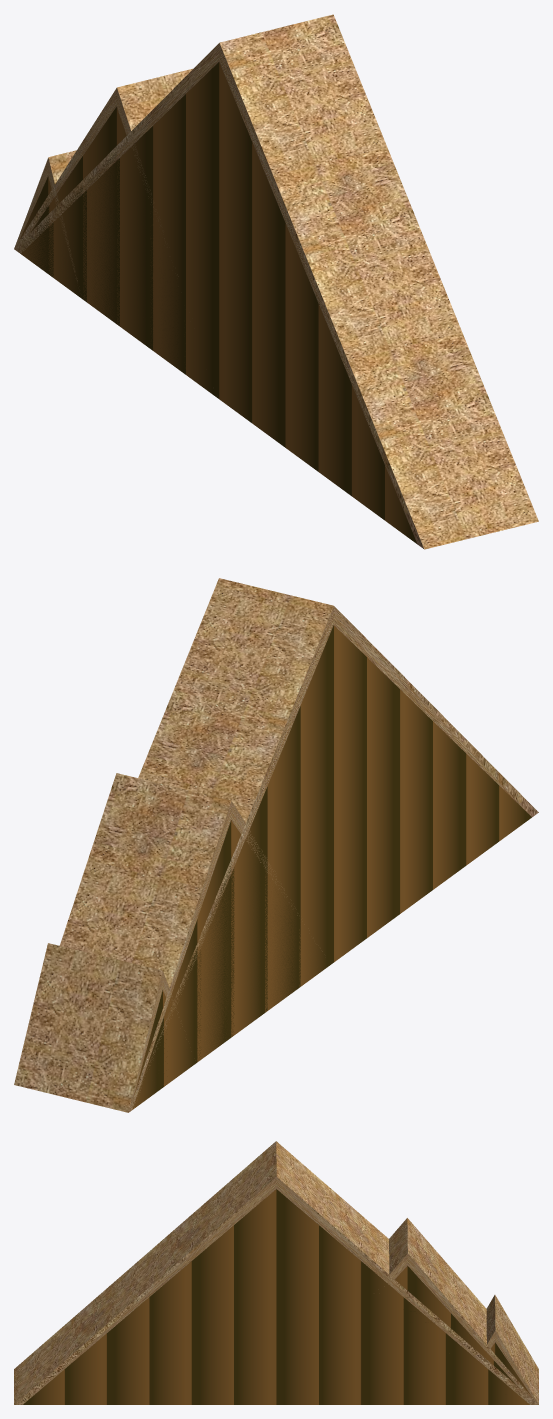
Rendered from TestingCelling1.fbx.
3 views of the same model, one above another, from view 1: azimuth 30°, elevation 25°; view 2: azimuth 150°, elevation 25°; view 3: azimuth 270°, elevation 25° (orthographic). The views are drawn at different scales.
Visible parts, largest first — view 1: Cube.004, Cube.005, Cube.006; view 2: Cube.004, Cube.005, Cube.006; view 3: Cube.004, Cube.005, Cube.006.
Part boxes in pixels (left/top/right/bottom): Cube.004: left=14, top=14, right=538, bottom=549; Cube.005: left=14, top=68, right=200, bottom=378; Cube.006: left=14, top=150, right=81, bottom=298; Cube.004: left=129, top=578, right=538, bottom=1112; Cube.005: left=59, top=773, right=327, bottom=1112; Cube.006: left=14, top=943, right=186, bottom=1112; Cube.004: left=14, top=1141, right=538, bottom=1404; Cube.005: left=384, top=1218, right=538, bottom=1404; Cube.006: left=486, top=1295, right=538, bottom=1404.
Bounding box in the file's own units: 100 × 298 × 621.
Materials: 2 (2 with a texture image).
